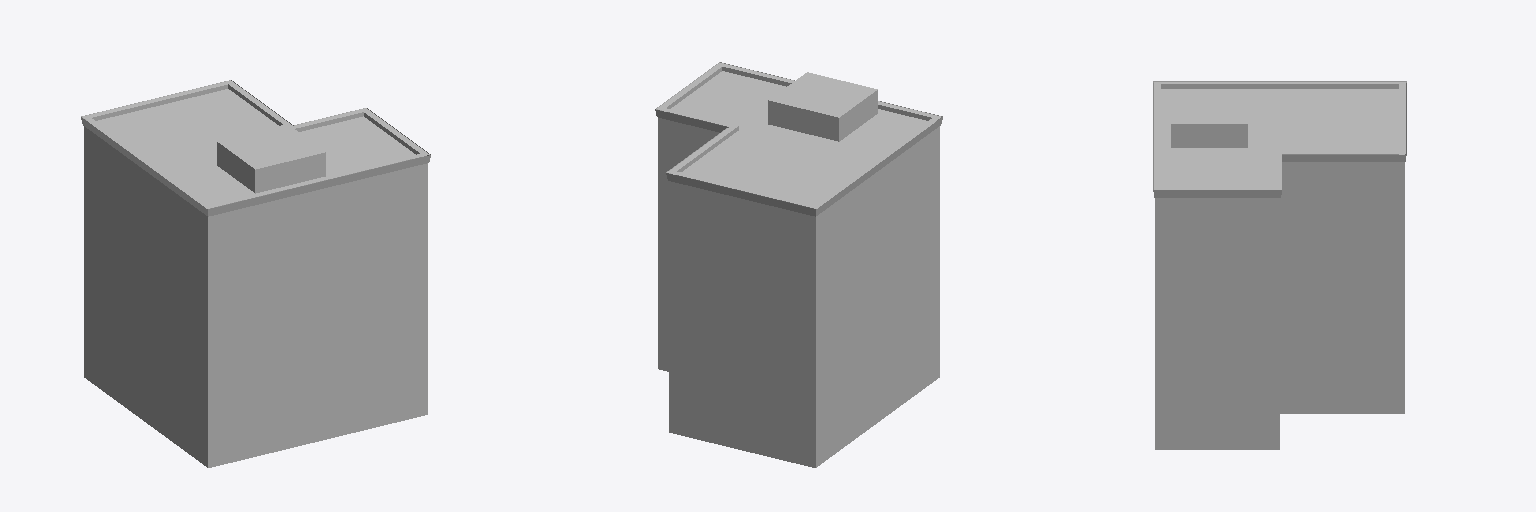
Rendered from building_27.obj.
The picture shows the model from 3 angles: view 1: azimuth 30°, elevation 25°; view 2: azimuth 150°, elevation 25°; view 3: azimuth 270°, elevation 25°; orthographic projection.
Parts seen in each view (by area): view 1: BakedBuilding_324; view 2: BakedBuilding_324; view 3: BakedBuilding_324.
Boxes of the visible parts, x1=… form: BakedBuilding_324: x1=81, y1=80, x2=430, y2=467; BakedBuilding_324: x1=655, y1=62, x2=942, y2=467; BakedBuilding_324: x1=1153, y1=81, x2=1406, y2=449.
Bounding box in the file's own units: 60.51 × 72.4 × 59.45.